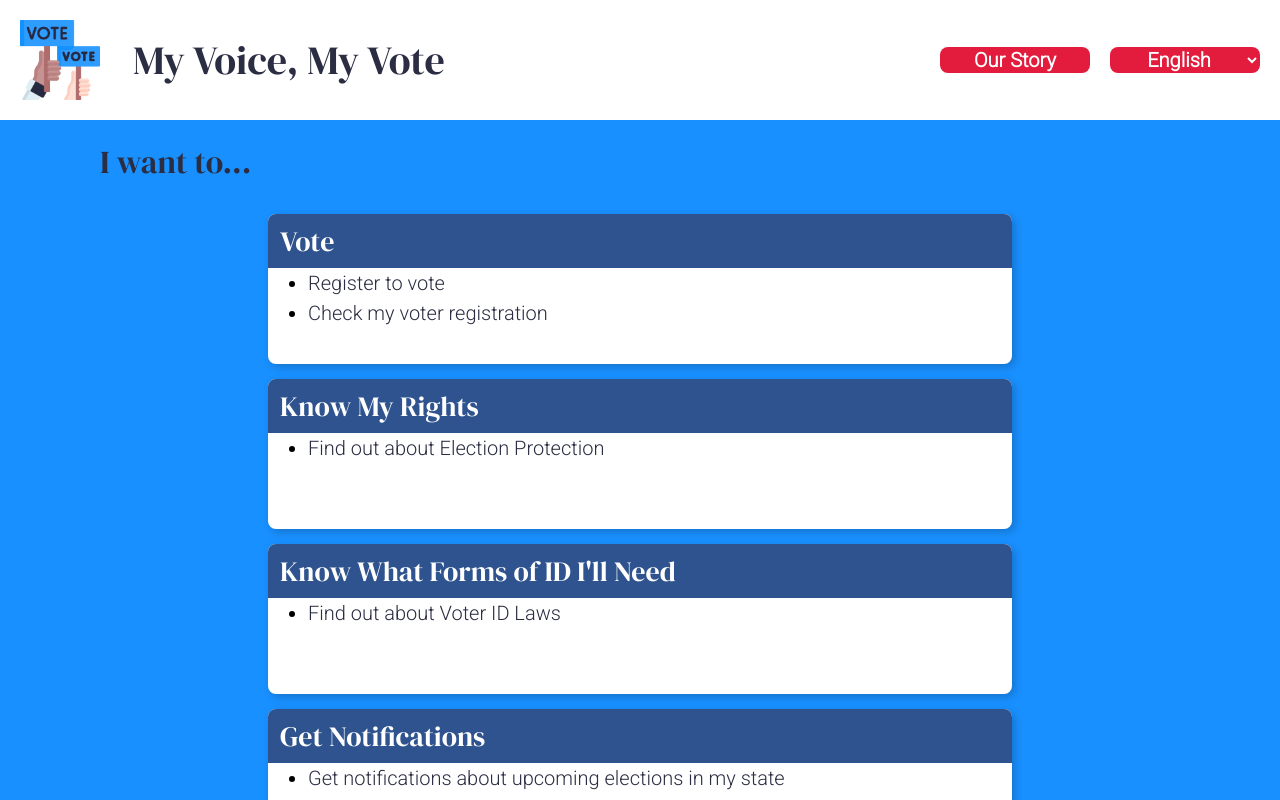
Test case: Mi Voz, Mi Voto main page user flow › Should see a header with an icon and the title, in English & Spanish
The image size is (1280, 800).
Select "English" in the dropdown with class "en-espanol-button" at (1185, 60), box [1110,47,1260,73]
Expected: the button named "vote" is shown, [20,20,100,100]
Expected: the heading with class "app-name" reads "My Voice, My Vote", [133,33,445,87]
Select "Español" in the dropdown with class "en-espanol-button" at (1185, 60), box [1110,47,1260,73]
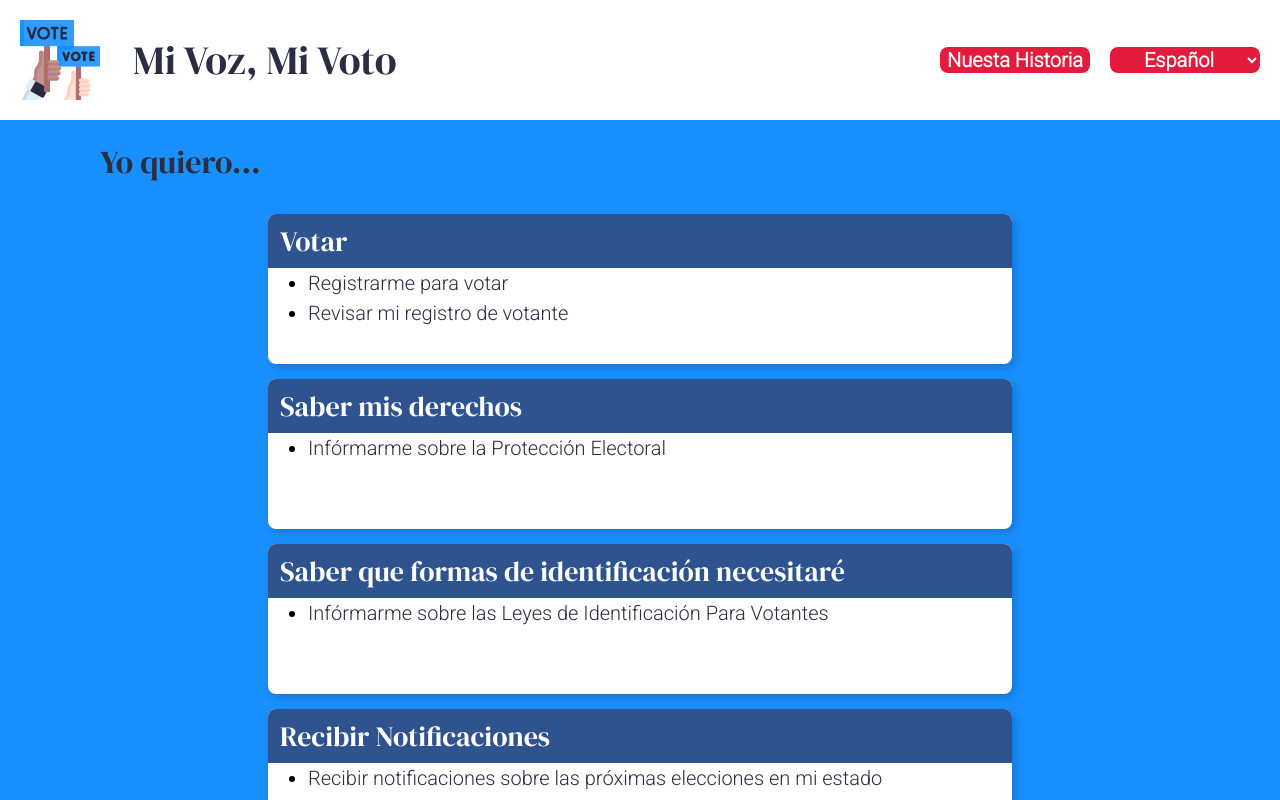
Now the heading with class "app-name" reads "Mi Voz, Mi Voto", box [133,33,396,87]
